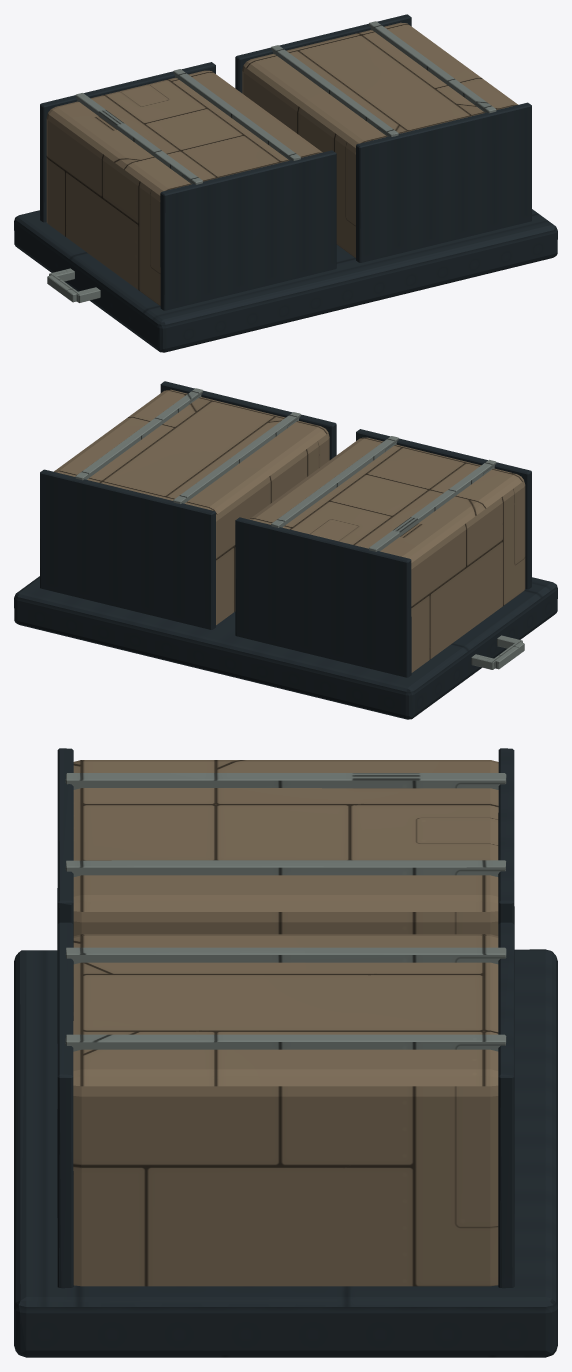
Rendered from hundred_hand_cargo_lod1.glb.
3 renders of one model, top to bottom at view 1: azimuth 30°, elevation 25°; view 2: azimuth 150°, elevation 25°; view 3: azimuth 270°, elevation 25°, orthographic. The views are drawn at different scales.
Parts seen in each view (by area): view 1: LOD1_Mechanical, LOD1_Armor, LOD1_BrushedMetal; view 2: LOD1_Mechanical, LOD1_Armor, LOD1_BrushedMetal; view 3: LOD1_Armor, LOD1_Mechanical, LOD1_BrushedMetal.
Boxes of the visible parts, x1,y1,x2,y2 form: LOD1_Mechanical: [14, 14, 557, 352]; LOD1_Armor: [46, 22, 518, 305]; LOD1_BrushedMetal: [47, 21, 496, 302]; LOD1_Mechanical: [14, 381, 557, 719]; LOD1_Armor: [54, 389, 525, 672]; LOD1_BrushedMetal: [75, 388, 524, 669]; LOD1_Armor: [73, 760, 498, 1286]; LOD1_Mechanical: [14, 748, 557, 1357]; LOD1_BrushedMetal: [65, 773, 506, 1051].
Size of what is drawn, in the model's own units: 9.59 by 3.25 by 5.8.
3 materials, 3 textured.
